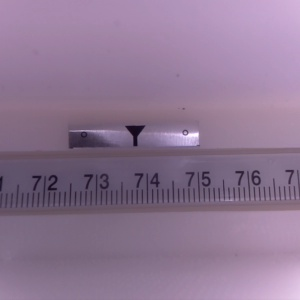2: (47, 175, 58, 191)
3: (99, 173, 109, 189)
4: (149, 172, 160, 188)
5: (200, 171, 210, 187)
6: (251, 170, 261, 186)
7: (30, 175, 41, 191), (133, 172, 143, 189), (83, 174, 93, 190), (184, 171, 194, 187), (284, 169, 294, 185), (235, 170, 244, 186)
finger: (123, 125, 146, 148)
